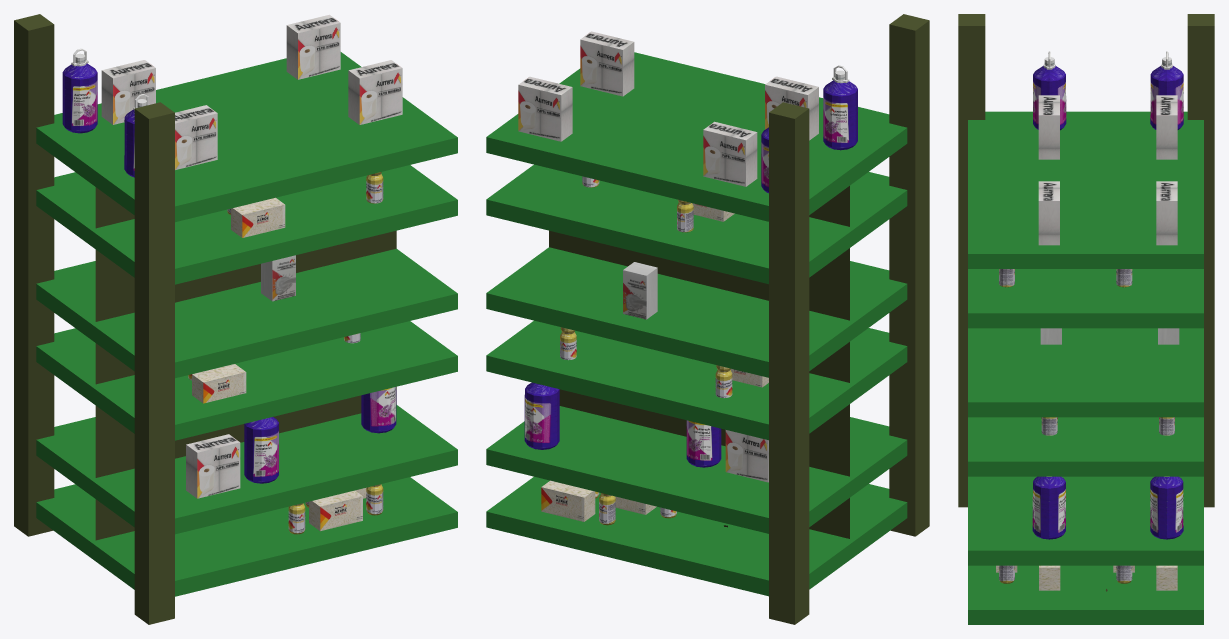
The model's file is almacen_medio_com.fbx.
3 views of the same model, side by side, from view 1: azimuth 30°, elevation 25°; view 2: azimuth 150°, elevation 25°; view 3: azimuth 270°, elevation 25° (orthographic). The views are drawn at different scales.
Parts seen in each view (by area): view 1: almacen medio_com; view 2: almacen medio_com; view 3: almacen medio_com.
Part boxes in pixels (x1,y1,x2,y2): almacen medio_com: [14, 14, 457, 624]; almacen medio_com: [486, 14, 929, 624]; almacen medio_com: [958, 14, 1214, 624].
Size of the model in its own units: 3230 by 4970 by 2400.
